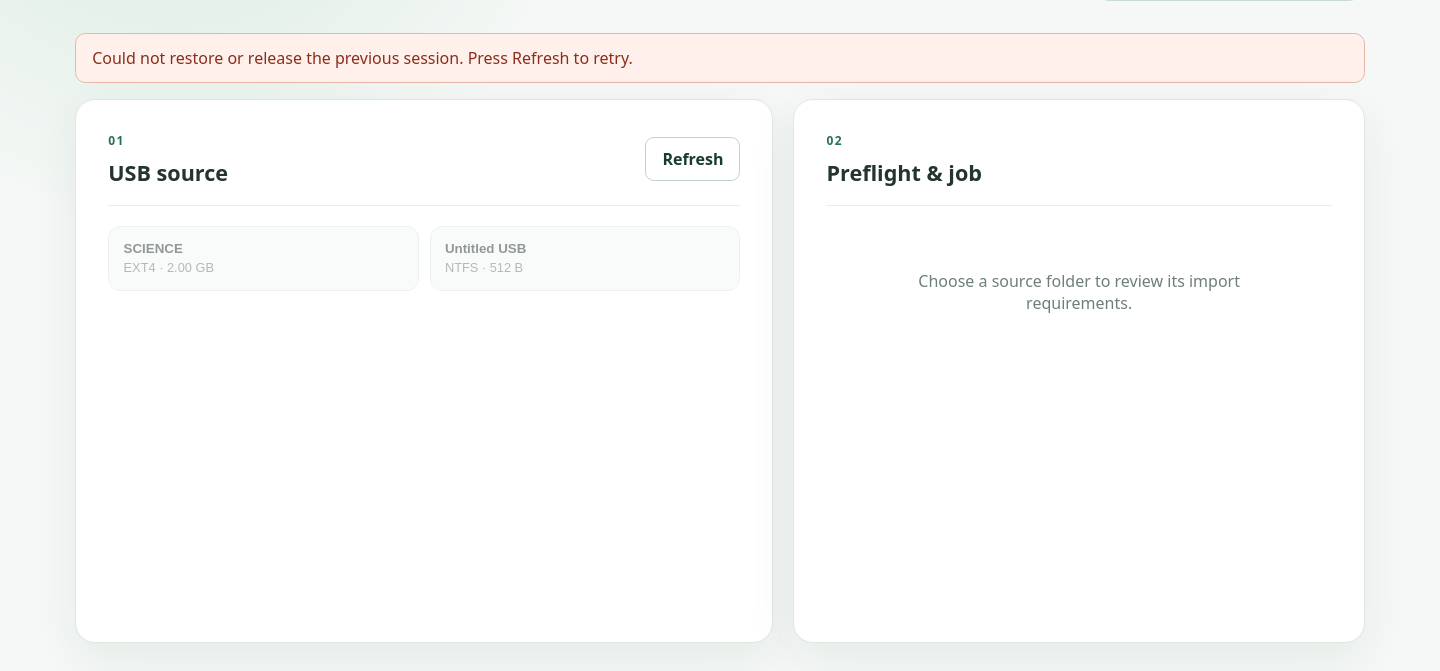
Test case: failed reopen cleanup blocks source actions and Refresh retries the same session
This screenshot has width=1440, height=671.
(page scrolled)
Check: the text "Could not restore or release the previous session. Press Refresh to retry." is shown, box [75,33,1365,83]
Check: the button "SCIENCE EXT4 · 2.00 GB" is disabled, box [108,226,419,291]
Click the button "Refresh" at (693, 159), box [645,137,740,181]
(page scrolled)
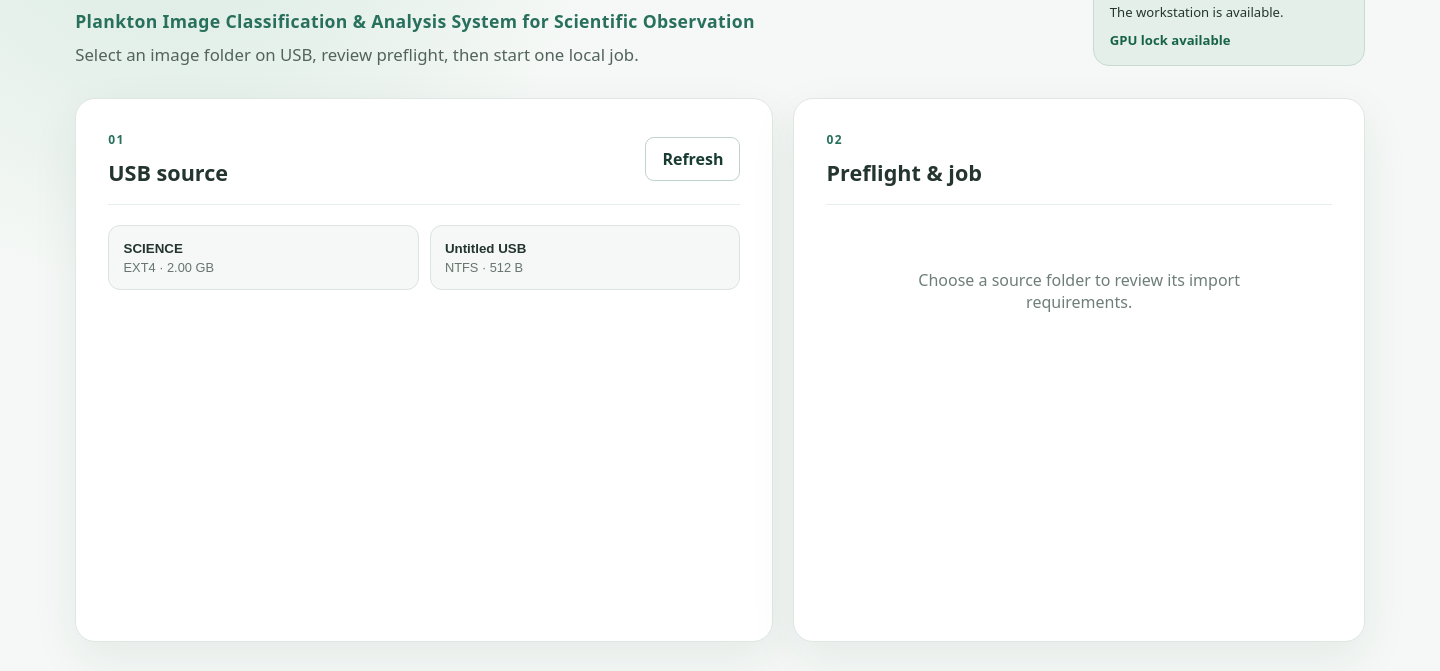
Check: the button "SCIENCE EXT4 · 2.00 GB" is enabled, box [108,225,419,290]
